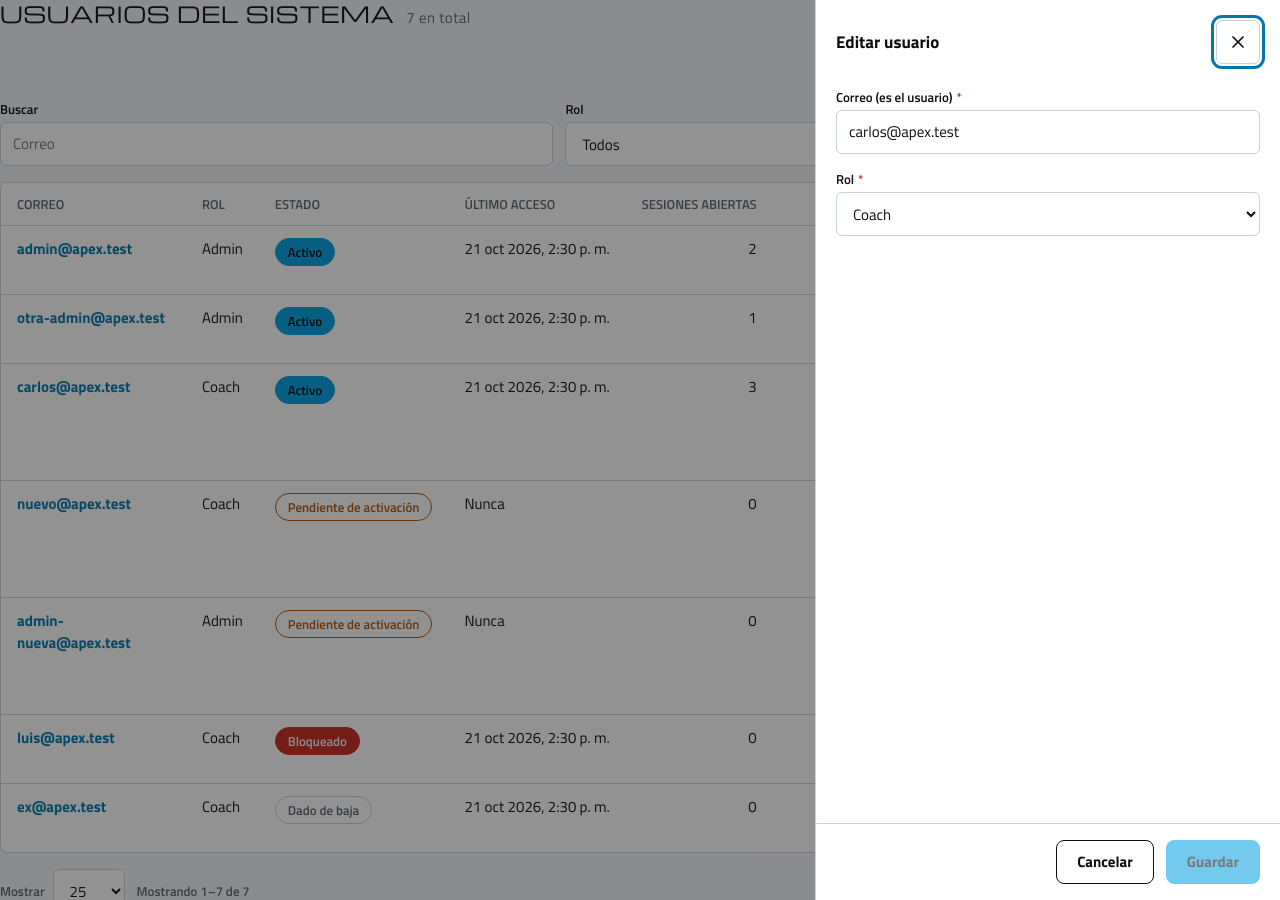
Test: EditUserPanel · guardar (US-049) › envía solo el correo si solo cambió el correo; cierra, avisa y relee la lista
Replace the text in the field labelled "Correo (es el usuario)*" with "  carlos.r@apex.test " at (1048, 132), box [836, 110, 1260, 154]
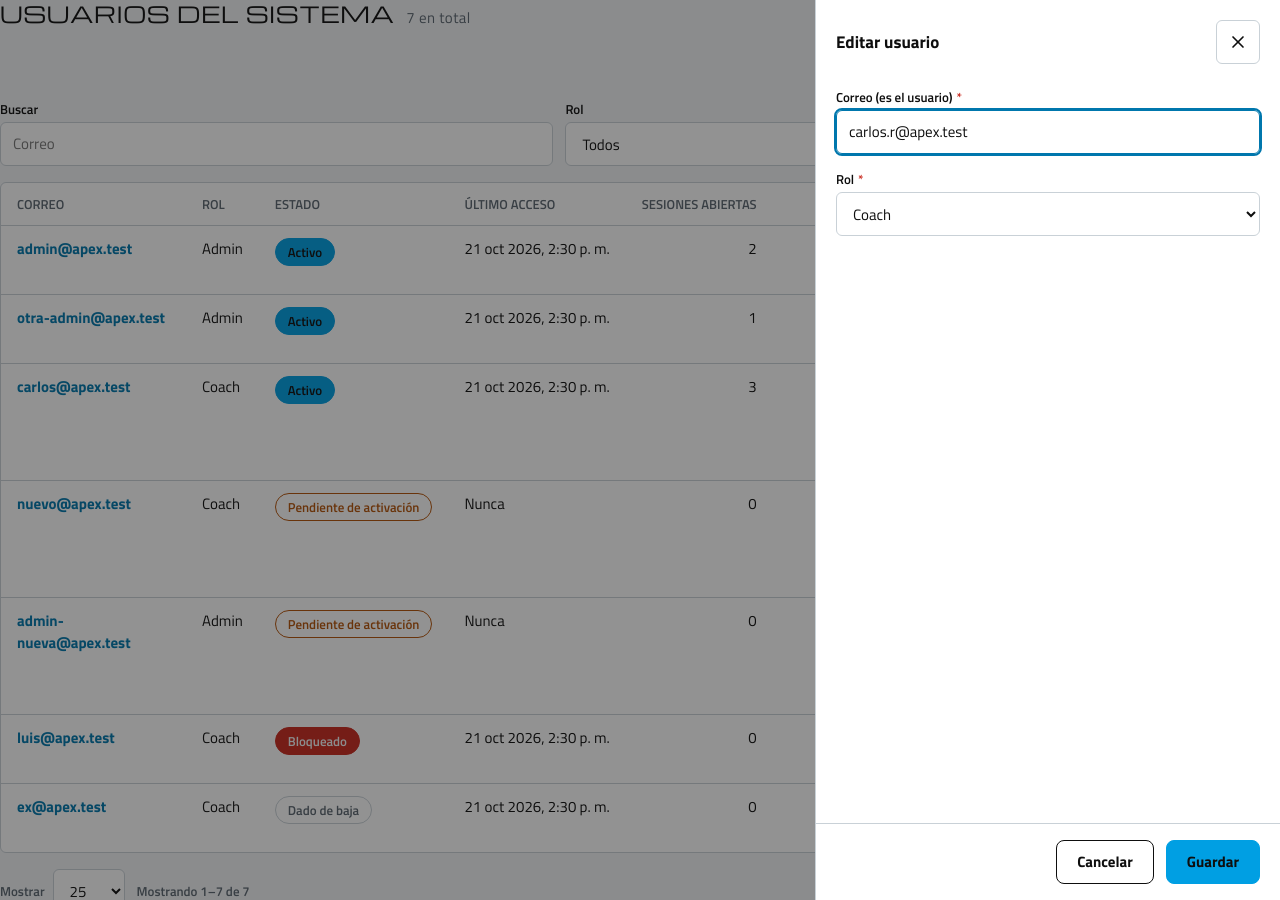
Click the button "Guardar" at (1213, 862), box [1166, 840, 1260, 884]
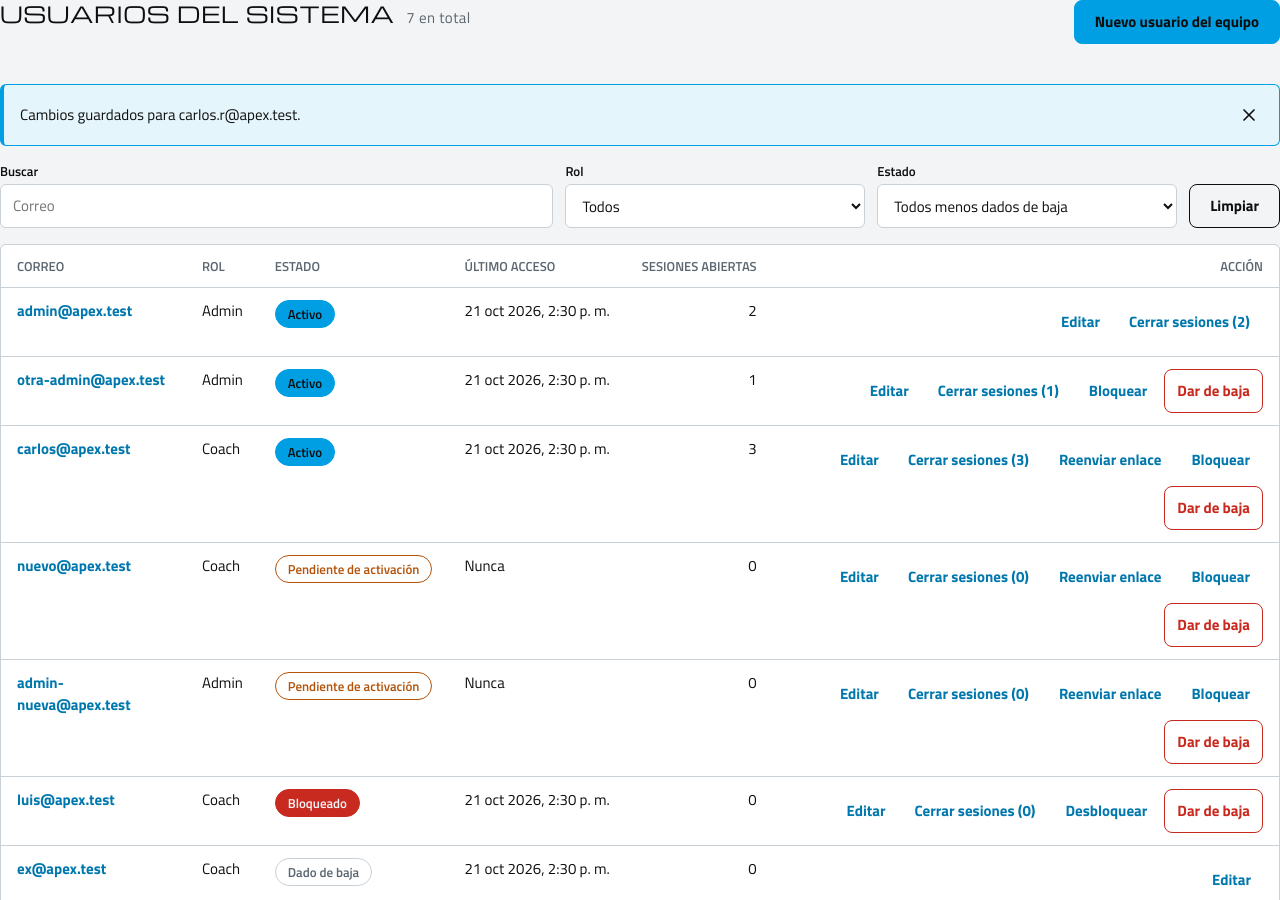
Expected: the dialog is gone
Expected: the message reads "Cambios guardados para carlos.r@apex.test.", [20, 103, 300, 126]
